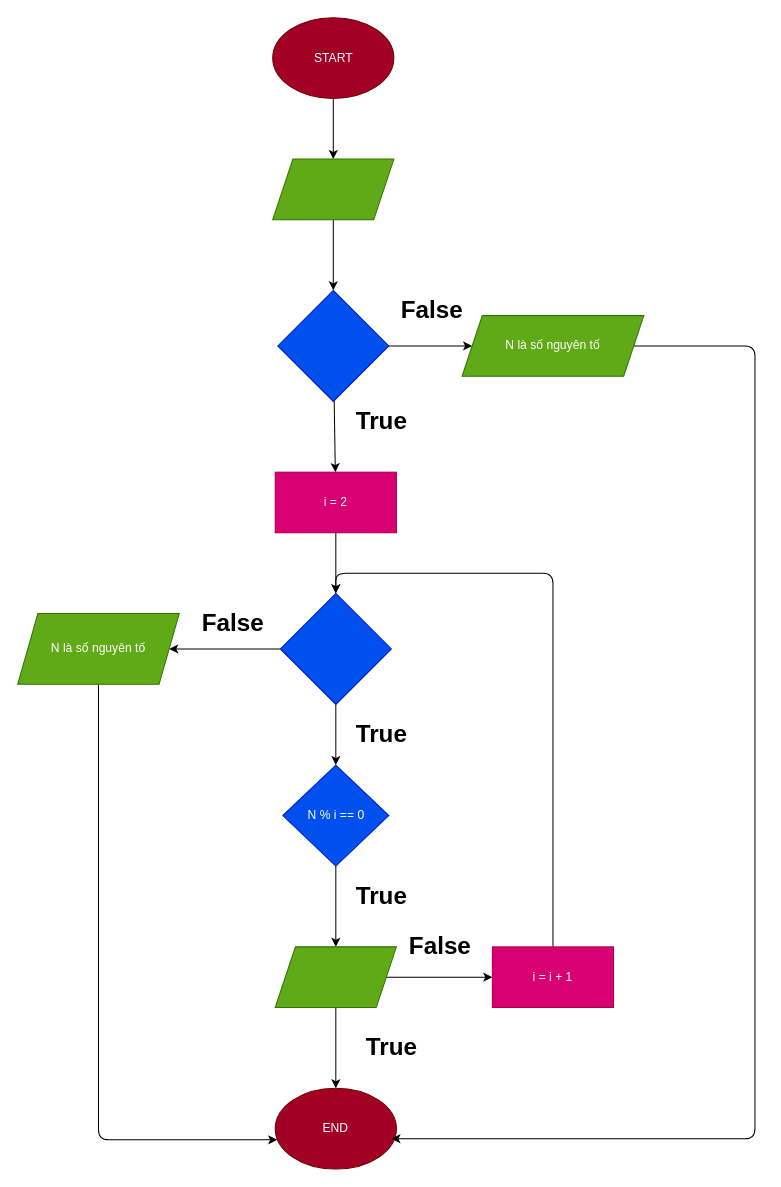
Some shapes in this 781 by 1187 pixel diagram are drawn without their labels. Here are the shapes that lost their labels. From the top down, the centre of each, then its label:
the point at 333,189: Nhập N
the point at 333,345: N > 1
the point at 335,648: i < N
the point at 335,976: N không phải số n/tố
